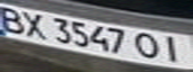3: (45, 15, 72, 46)
4: (87, 24, 109, 53)
5: (66, 19, 90, 49)
7: (106, 26, 130, 55)
B: (0, 5, 30, 35)
I: (157, 34, 190, 64)
O: (130, 30, 163, 61)
X: (18, 10, 51, 40)
